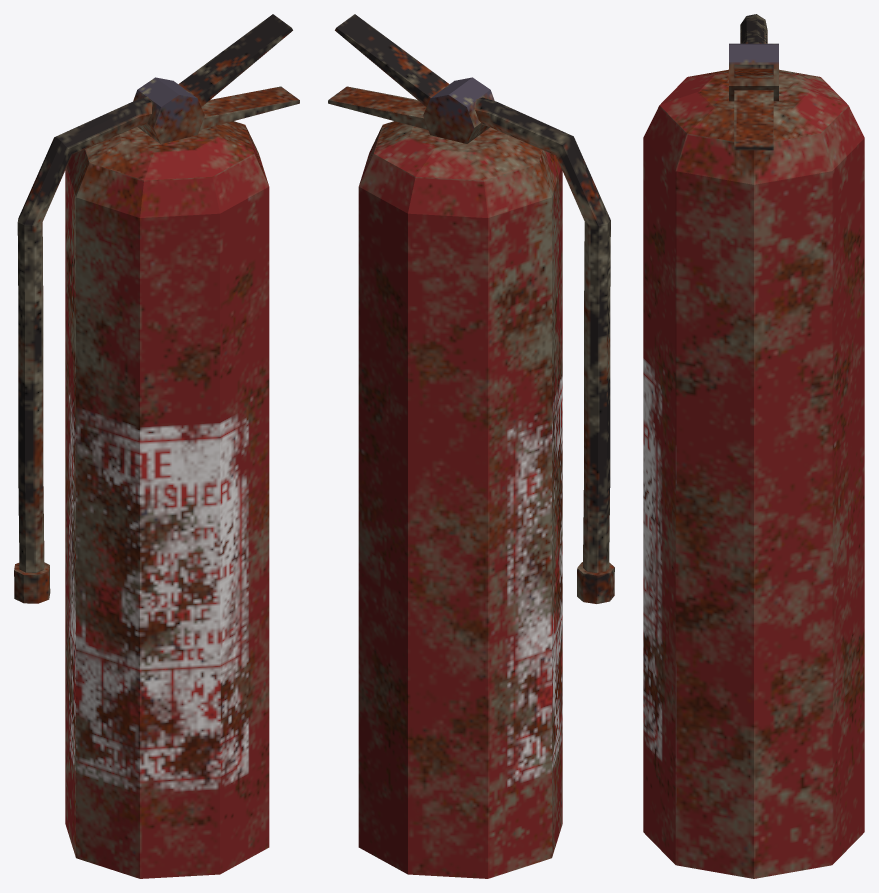
File: extinguisher.fbx
The picture shows the model from 3 angles, left to right: view 1: azimuth 30°, elevation 25°; view 2: azimuth 150°, elevation 25°; view 3: azimuth 270°, elevation 25°; orthographic projection. The views are drawn at different scales.
Parts seen in each view (by area): view 1: extinguisher; view 2: extinguisher; view 3: extinguisher.
Boxes of the visible parts, box(x1,y1,x2,y2) form: extinguisher: box(14, 14, 299, 878); extinguisher: box(328, 14, 614, 878); extinguisher: box(643, 14, 864, 878).
Bounding box in the file's own units: 24.05 × 65.86 × 16.
1 material, 1 textured.
